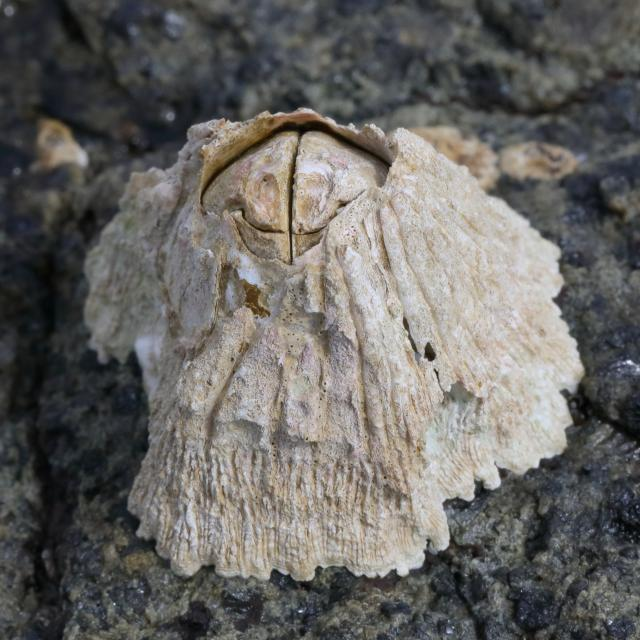barnacles: (83, 102, 585, 587)
